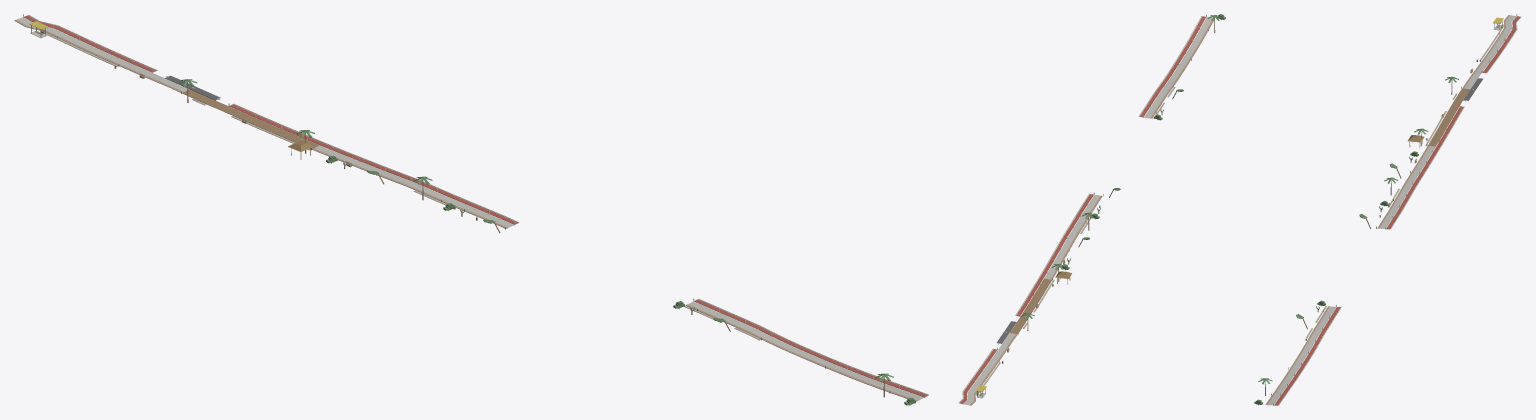
The model's file is nw_mk_beach.glb.
The picture shows the model from 3 angles, left to right: view 1: azimuth 30°, elevation 25°; view 2: azimuth 150°, elevation 25°; view 3: azimuth 330°, elevation 25°; orthographic projection. The views are drawn at different scales.
Parts seen in each view (by area): view 1: nw_mk_beach_lod0; view 2: nw_mk_beach_lod0; view 3: nw_mk_beach_lod0.
Boxes of the visible parts, x1,y1,x2,y2 form: nw_mk_beach_lod0: (14, 14, 928, 405); nw_mk_beach_lod0: (958, 14, 1225, 405); nw_mk_beach_lod0: (1254, 14, 1521, 405).
Size of what is drawn, in the model's own units: 80.36 by 6.81 by 282.
